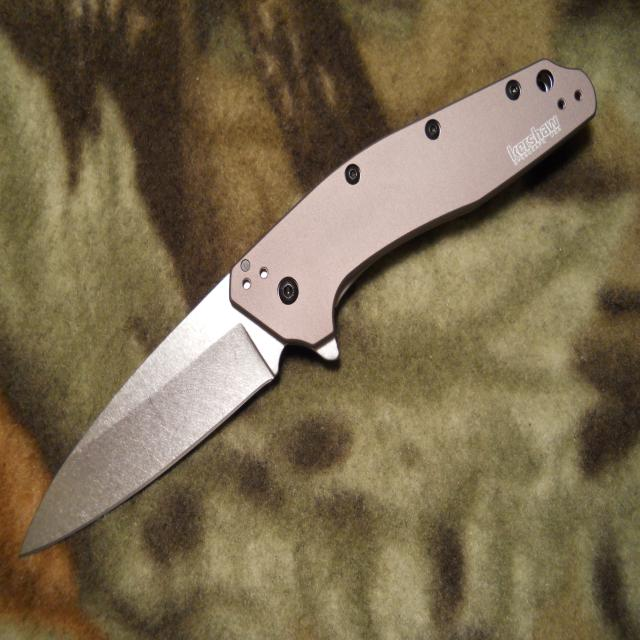knife: (17, 56, 600, 565)
